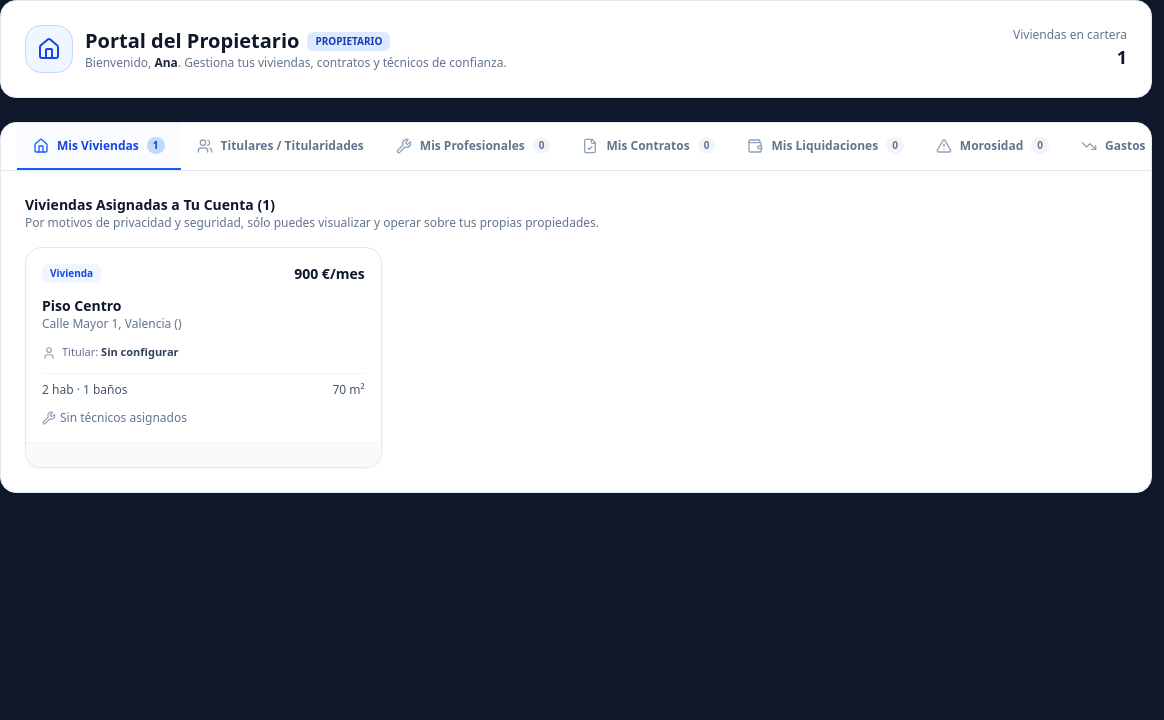
Test: portal: pestaña de titularidades › aísla: no muestra titularidades de otro inmueble
Click the button "Titulares / Titularidades".
click(280, 147)  # box [180, 123, 380, 170]
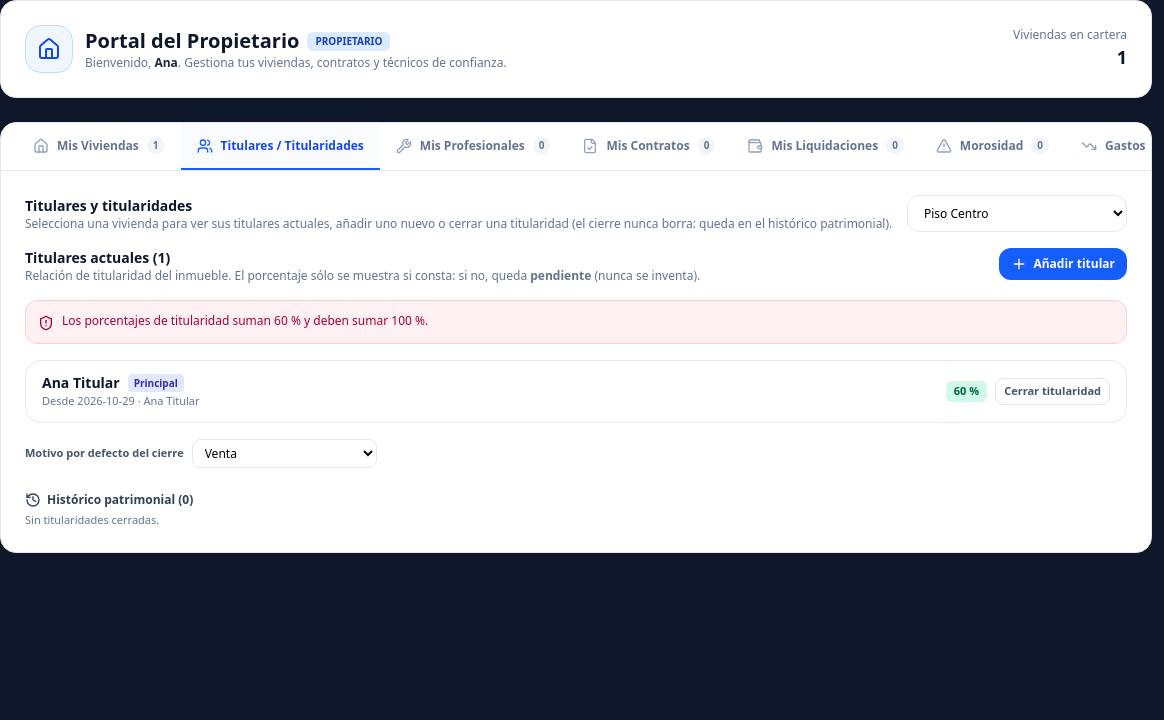
expect the heading "Titulares actuales (1)" is shown: met, box [25, 248, 170, 267]
